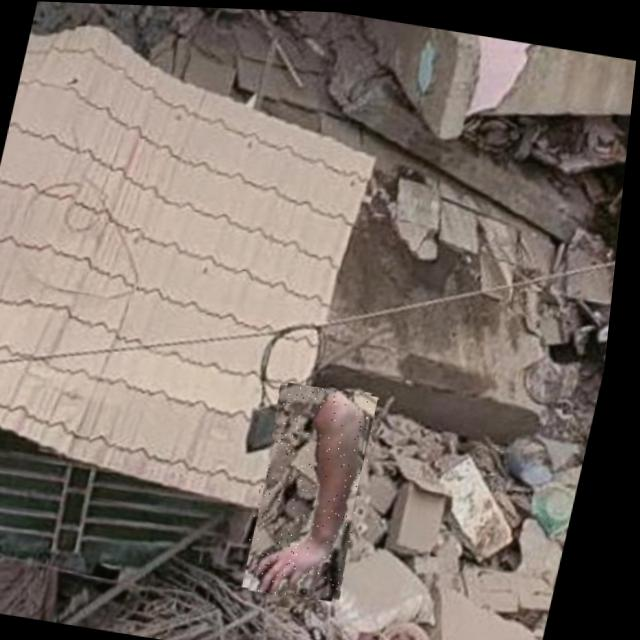Person in Rubble: (248, 377, 391, 601)
